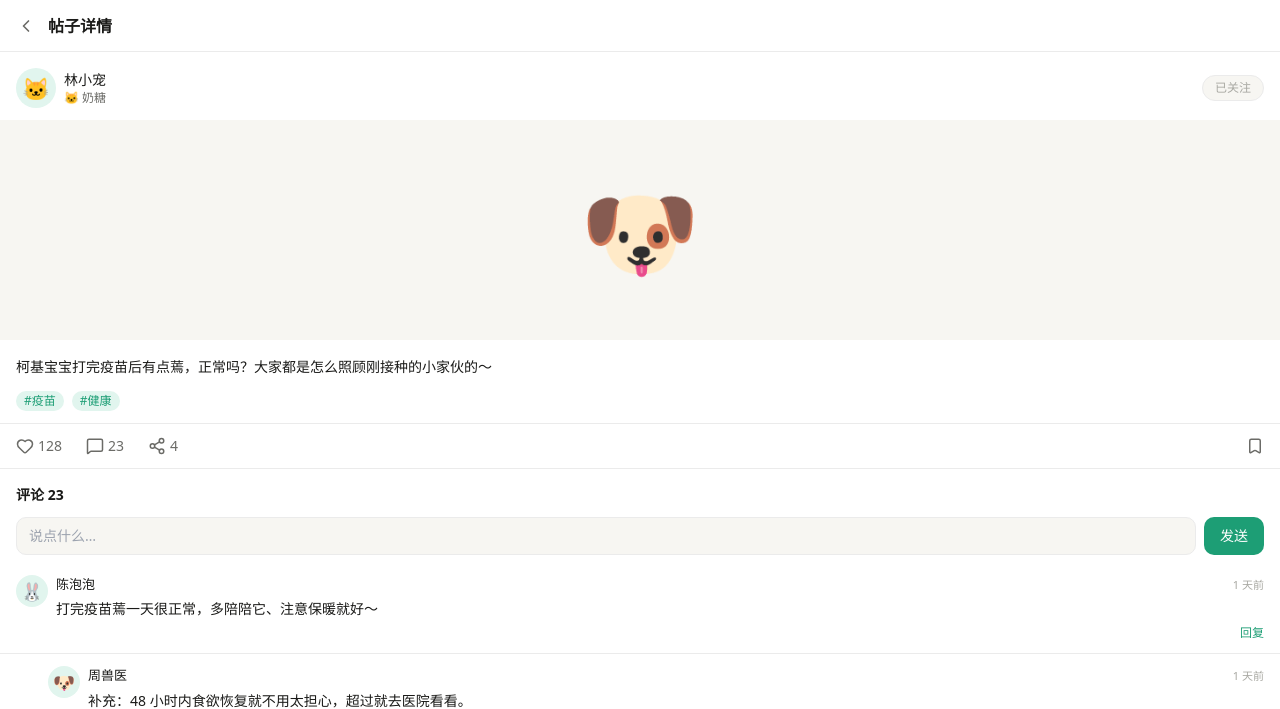
评论体系（P0-1） › 顶层评论可回复（楼中楼）→ 子回复置顶 + 计数 +1
Click the button "回复" at (1252, 633), box [1240,625,1264,641]
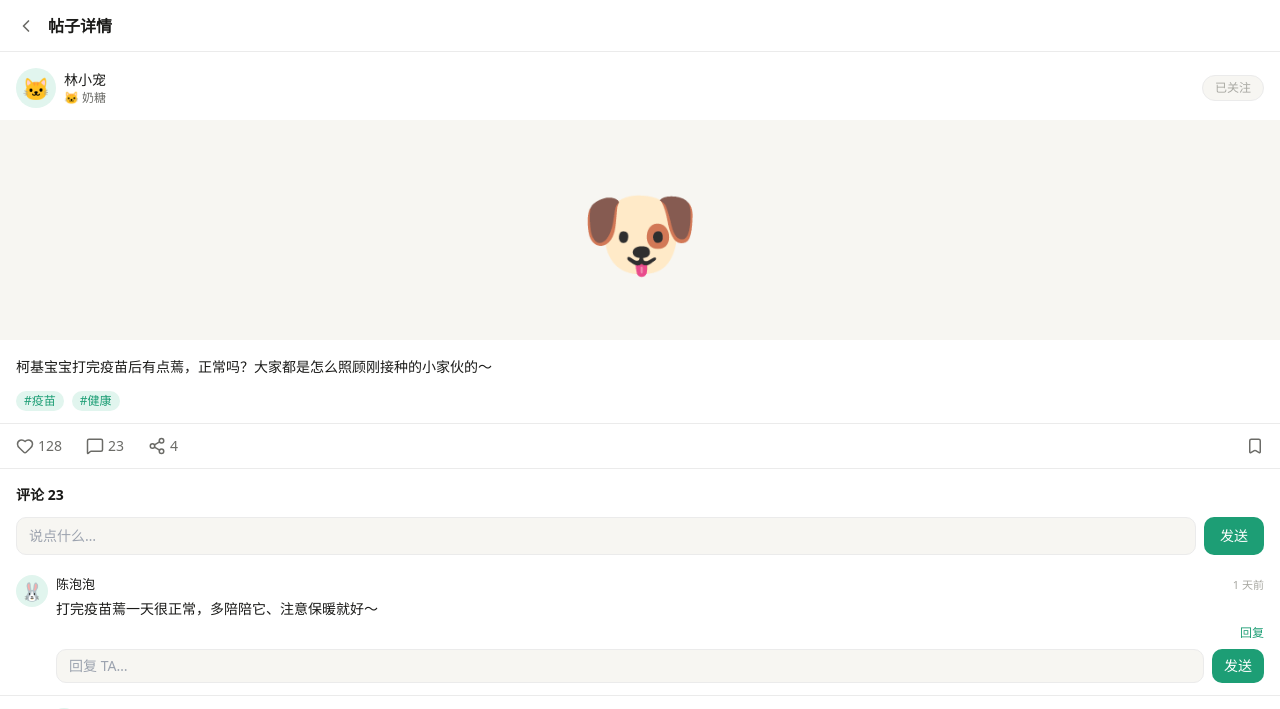
Type "谢谢提醒！" into the field with placeholder "回复 TA…" at (630, 666), box [56,649,1204,683]
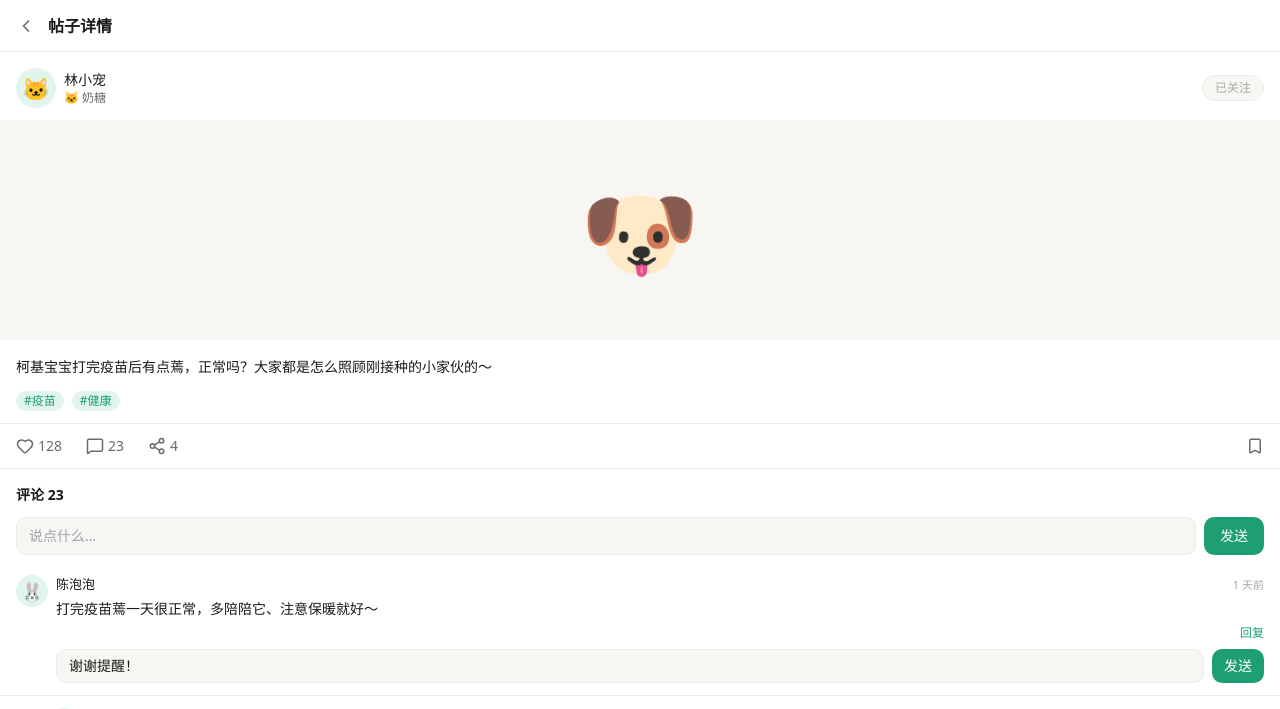
主评论框「发送」与回复框「发送」并存，取最后一个（回复框）
Click the 2nd button "发送" at (1238, 666), box [1212,649,1264,683]
(page scrolled)
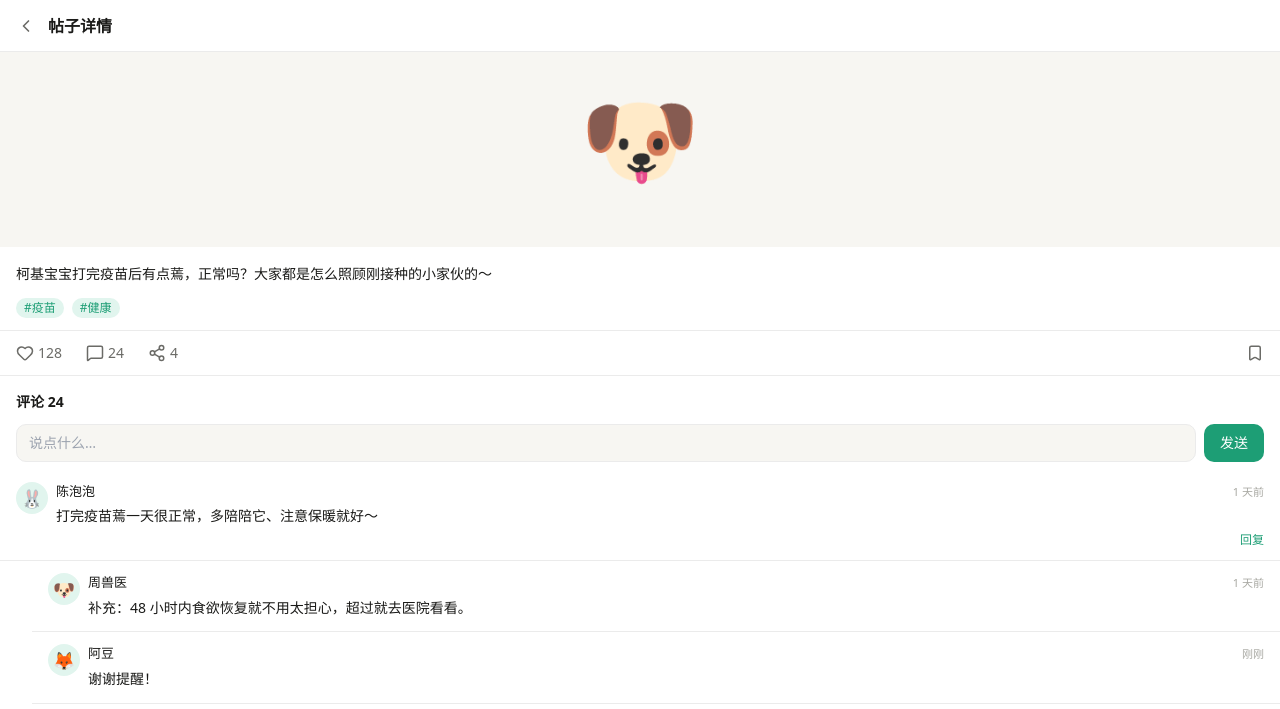
expect the text "谢谢提醒！" is shown: met, box [88,669,158,688]
